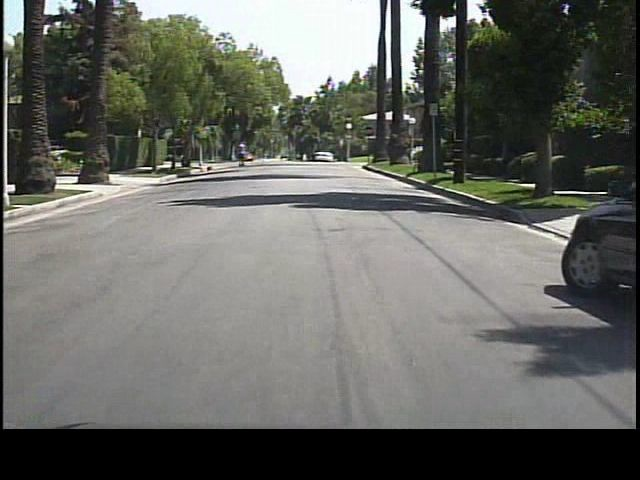person: (234, 137, 250, 169)
